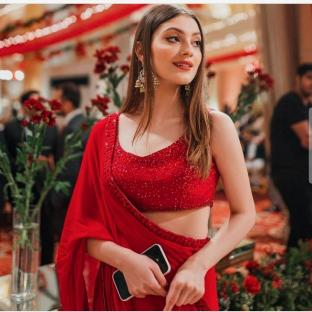Human: (56, 4, 255, 310)
